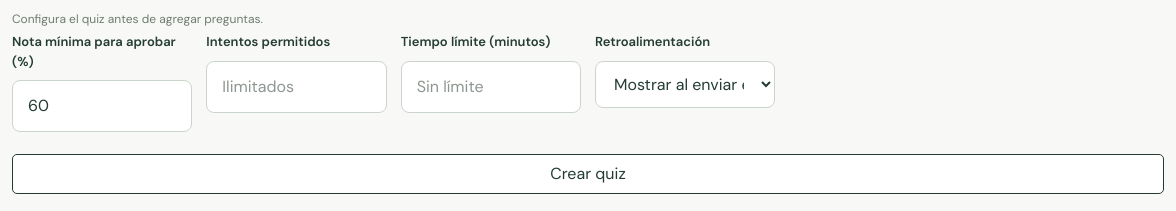
Test: EditorQuiz › crea el quiz cuando el recurso no tiene uno
Replace the text in the number field labelled "Nota mínima para aprobar (%)" with "70". click: point(102, 106)
box: [12,80,192,132]
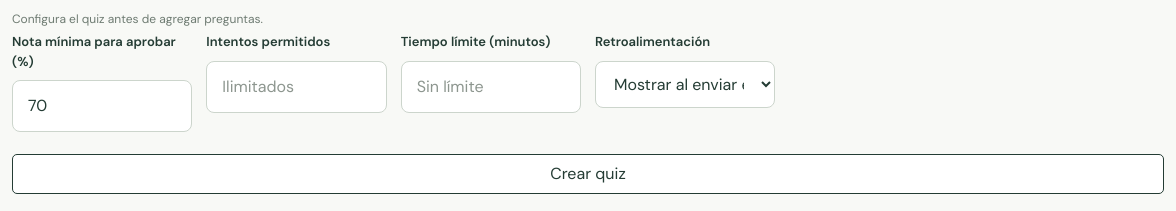
Type "2" into the number field labelled "Intentos permitidos". click: point(296, 86)
box: [206,60,387,112]
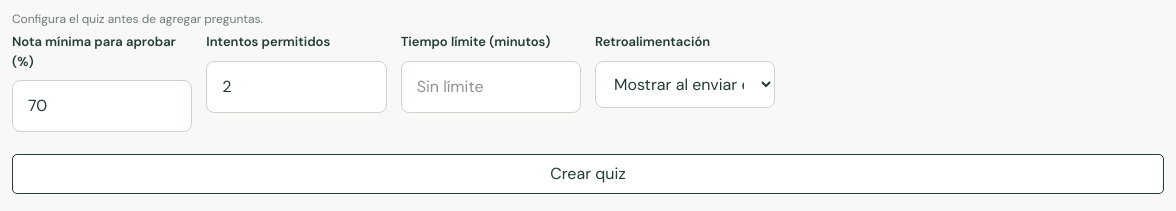
Type "10" into the number field labelled "Tiempo límite (minutos)". click: point(491, 86)
box: [401,60,581,112]
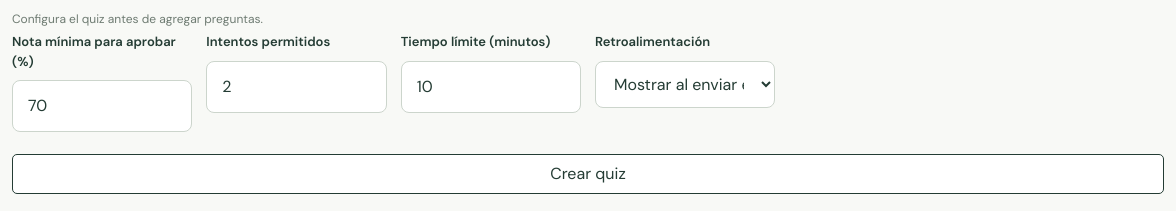
Click the button "Crear quiz". click: point(588, 174)
box: [12,154,1164,194]
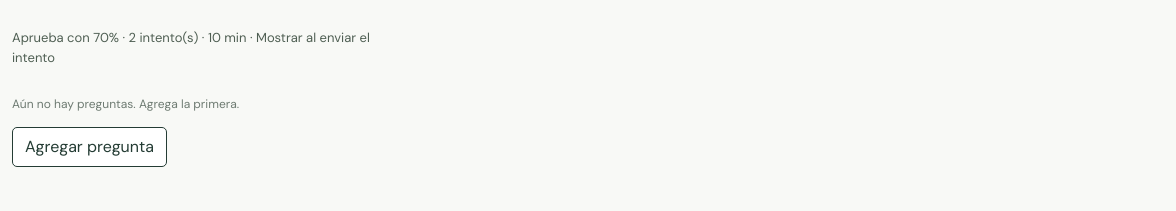
Expected: the text "Aún no hay preguntas. Agrega la primera." is shown, [12,96,239,112]
